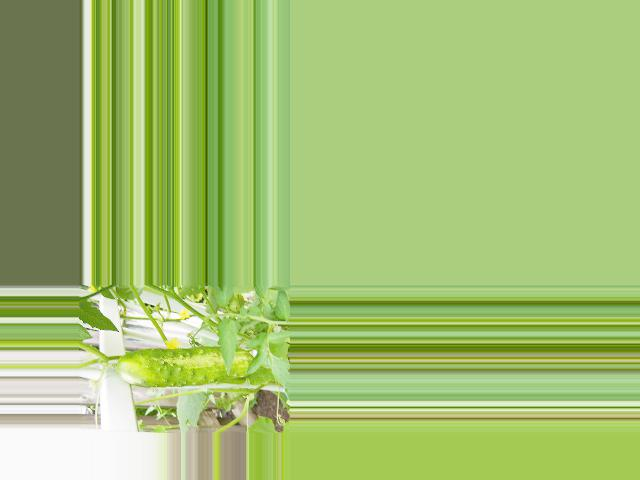cucumber: (115, 348, 252, 387)
